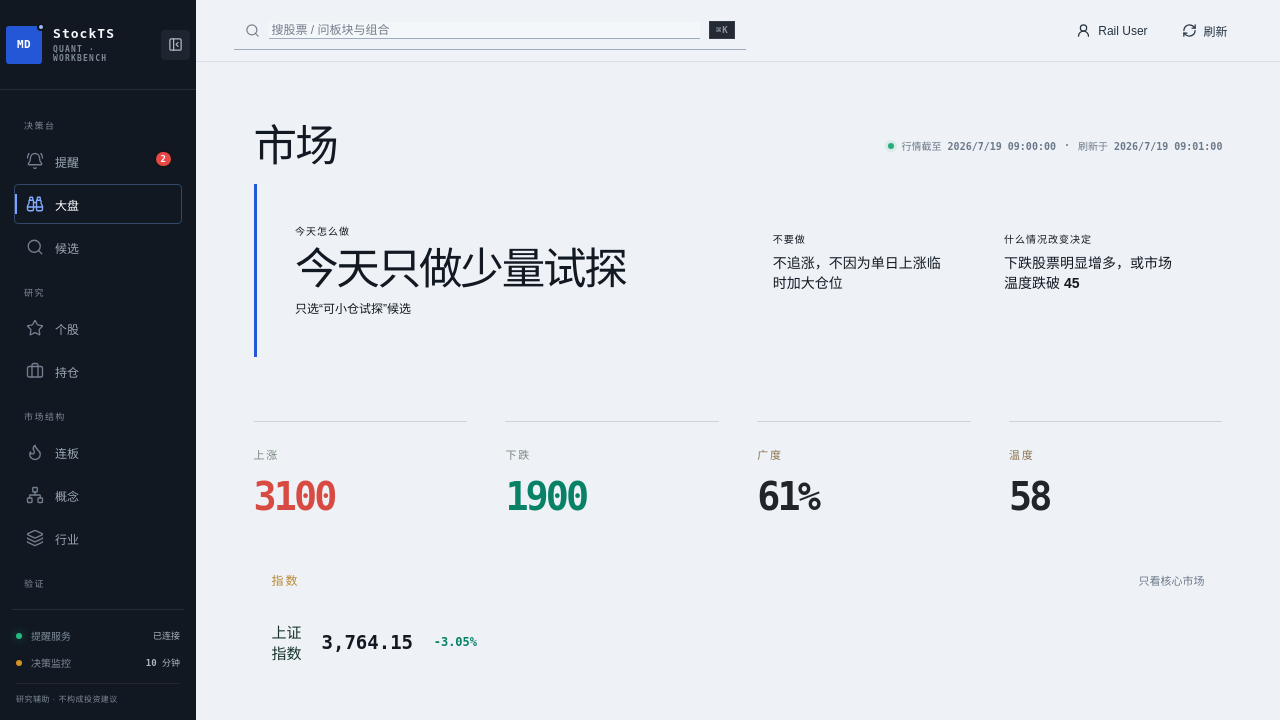
it: groups the workspace navigation and persists the collapsed desktop rail
expect the heading "市场" is shown: met, box [254,125,337,168]
expect the element "决策台" is shown: met, box [14,119,182,267]
What coordinates should you click on to do the following:
click the button named "收起侧边栏"
I would click on:
 (176, 44)
Its box is [161,30,190,60].
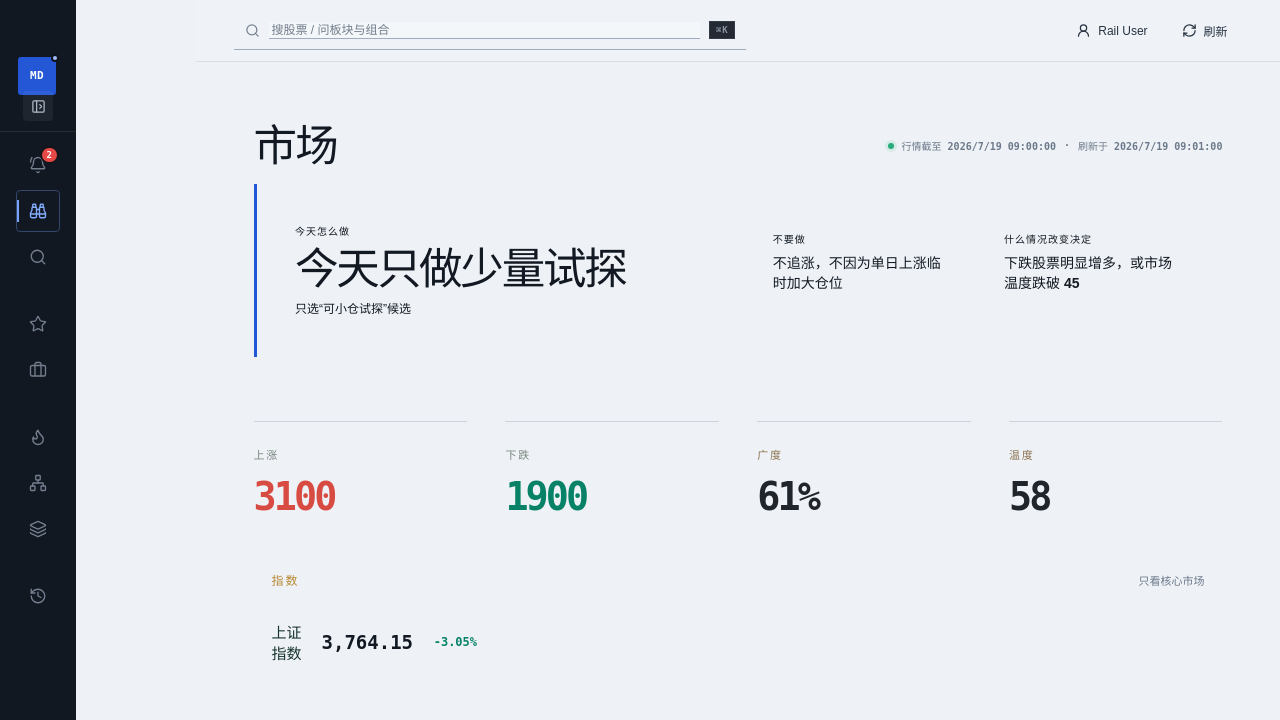
expect the button named "展开侧边栏" is collapsed: met, box [23,91,53,121]
